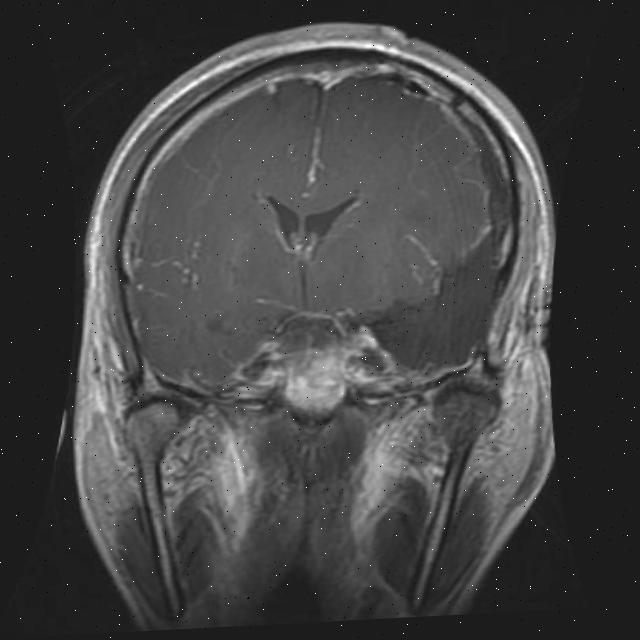Glioma: (365, 225, 508, 379)
Pituitary: (284, 347, 350, 421)
